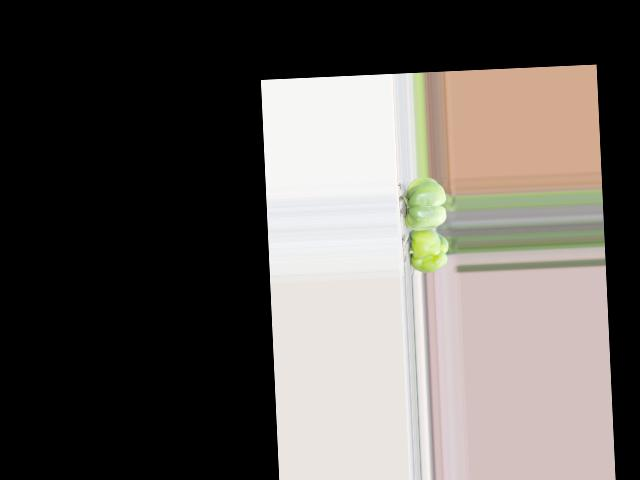bell_pepper: (405, 227, 451, 275)
